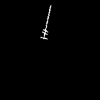treble_crochet: (41, 6, 50, 38)
